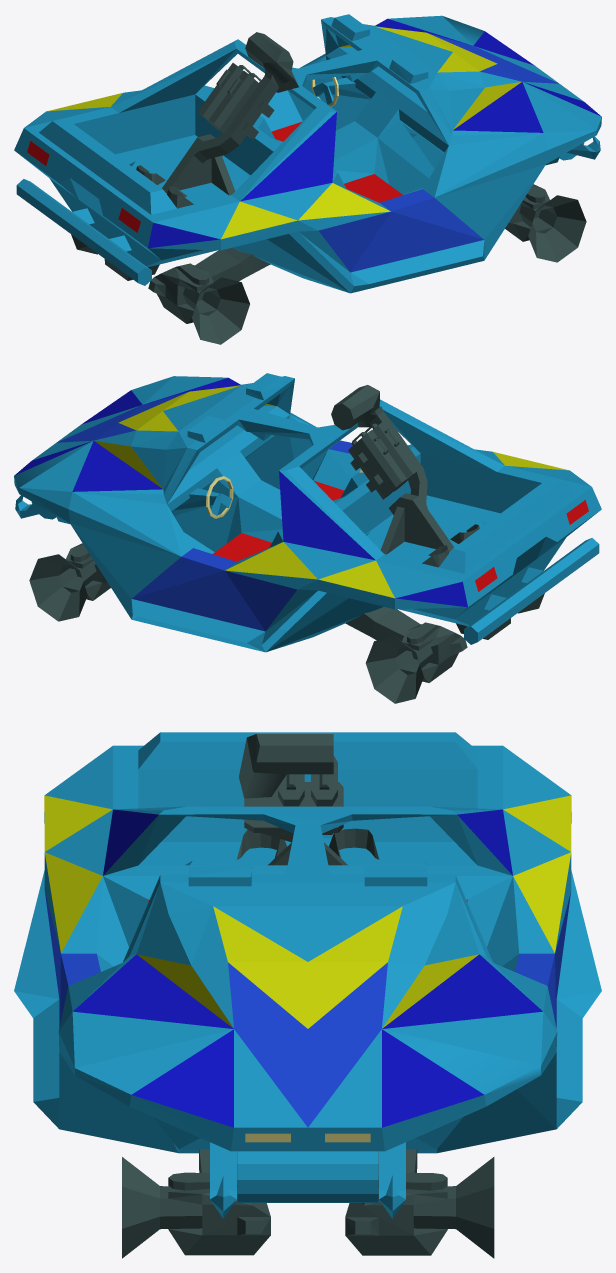
Rendered from Auto1.fbx.
3 views of the same model, one above another, from view 1: azimuth 30°, elevation 25°; view 2: azimuth 150°, elevation 25°; view 3: azimuth 270°, elevation 25° (orthographic). The views are drawn at different scales.
Visible parts, largest first — view 1: Object_0; view 2: Object_0; view 3: Object_0.
Boxes of the visible parts, left/top/right/bottom form: Object_0: left=14, top=14, right=601, bottom=344; Object_0: left=14, top=373, right=601, bottom=703; Object_0: left=14, top=732, right=601, bottom=1258.
Size of the model in its own units: 220 by 100 by 150.
